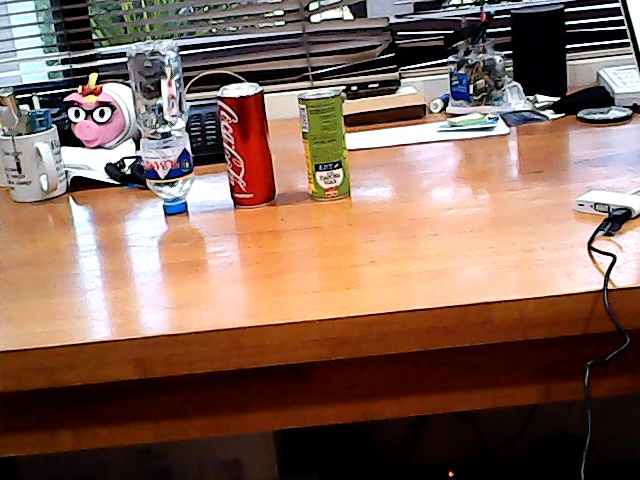Cola: (203, 73, 283, 213)
Pine Juice: (286, 75, 371, 205)
Summit Water: (118, 33, 205, 228)
